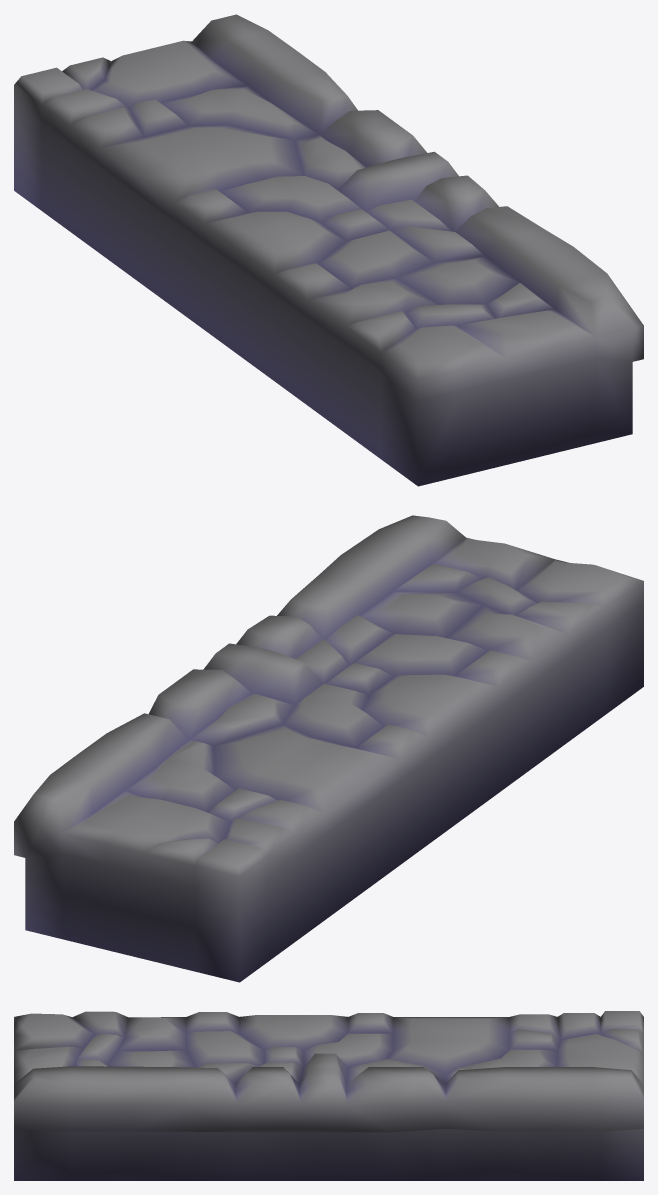
File: floorLining2.fbx
3 renders of one model, top to bottom at view 1: azimuth 30°, elevation 25°; view 2: azimuth 150°, elevation 25°; view 3: azimuth 270°, elevation 25°, orthographic. The views are drawn at different scales.
Parts seen in each view (by area): view 1: floorLining2; view 2: floorLining2; view 3: floorLining2.
Part boxes in pixels (x1,y1,x2,y2): floorLining2: (14, 14, 643, 486); floorLining2: (14, 515, 643, 982); floorLining2: (14, 1011, 643, 1180).
Bounding box in the file's own units: 17.67 × 9.34 × 52.7.
